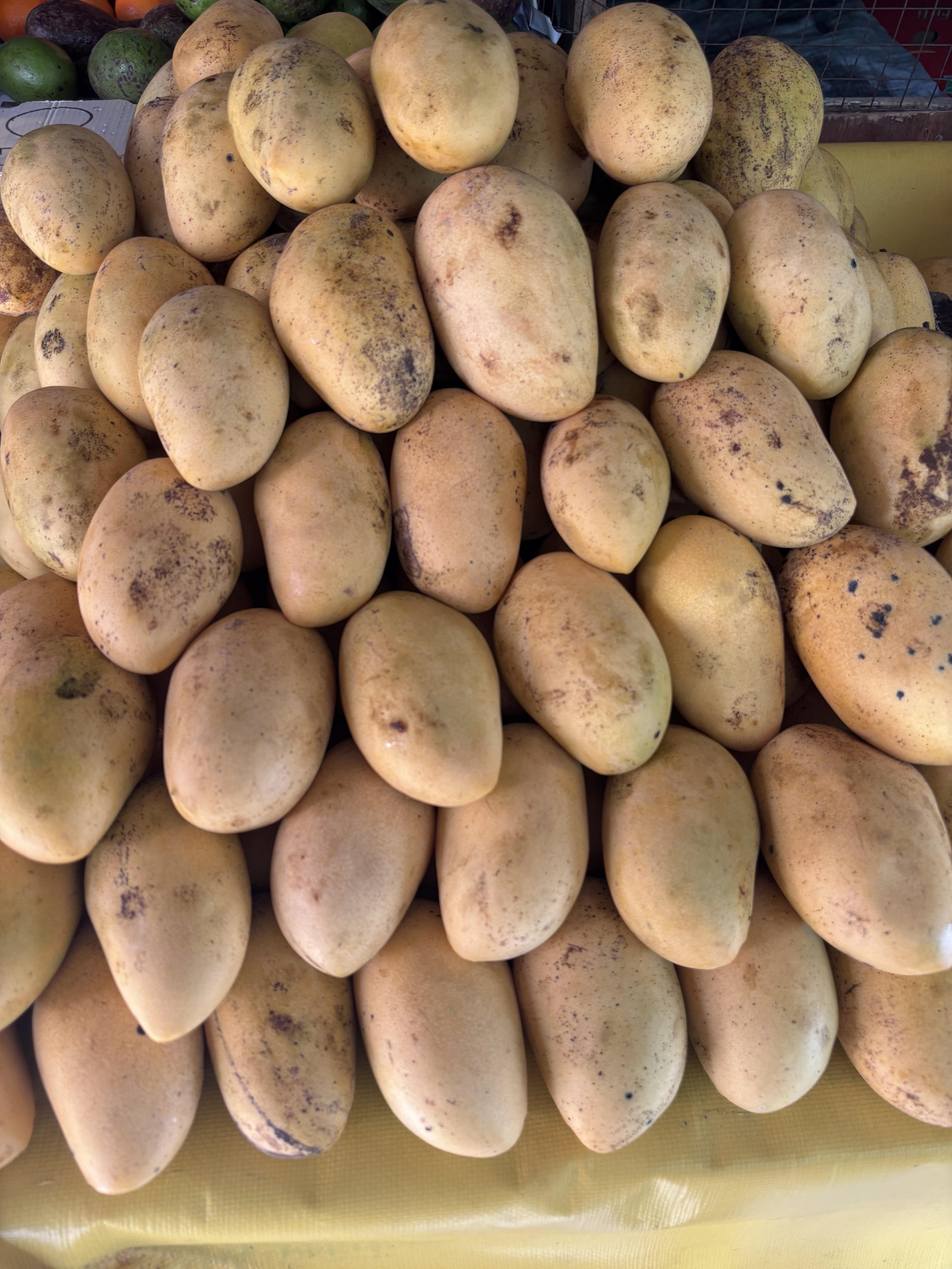mango: (752, 724, 952, 975), (415, 166, 598, 422), (494, 553, 671, 775), (163, 609, 336, 834), (270, 204, 435, 433), (635, 516, 785, 751), (339, 591, 502, 806), (138, 286, 289, 490), (726, 190, 872, 399), (390, 389, 526, 613), (255, 411, 391, 627), (595, 183, 730, 382), (566, 3, 712, 185), (228, 38, 376, 213), (371, 0, 519, 174), (541, 395, 670, 574), (0, 124, 135, 273)
occluded: (513, 878, 687, 1153), (32, 923, 203, 1194), (354, 900, 527, 1157), (85, 776, 251, 1043), (779, 525, 952, 765), (651, 350, 856, 548), (205, 894, 356, 1159), (270, 739, 435, 978), (678, 869, 838, 1113), (602, 725, 760, 970), (436, 723, 589, 961), (0, 634, 156, 864), (77, 458, 242, 674), (0, 387, 146, 581), (830, 327, 952, 546), (87, 237, 215, 430), (694, 36, 823, 208), (829, 948, 952, 1127), (161, 73, 277, 262), (493, 30, 593, 210), (347, 48, 445, 221), (0, 842, 83, 1029), (172, 0, 283, 91), (0, 573, 88, 683), (124, 97, 177, 243), (34, 274, 96, 387), (0, 205, 58, 316), (847, 235, 900, 347), (0, 471, 50, 579), (0, 1025, 35, 1168), (224, 233, 290, 307), (876, 252, 936, 329), (0, 315, 40, 428), (799, 147, 854, 229), (289, 13, 373, 60), (674, 179, 734, 229), (135, 60, 179, 115)
